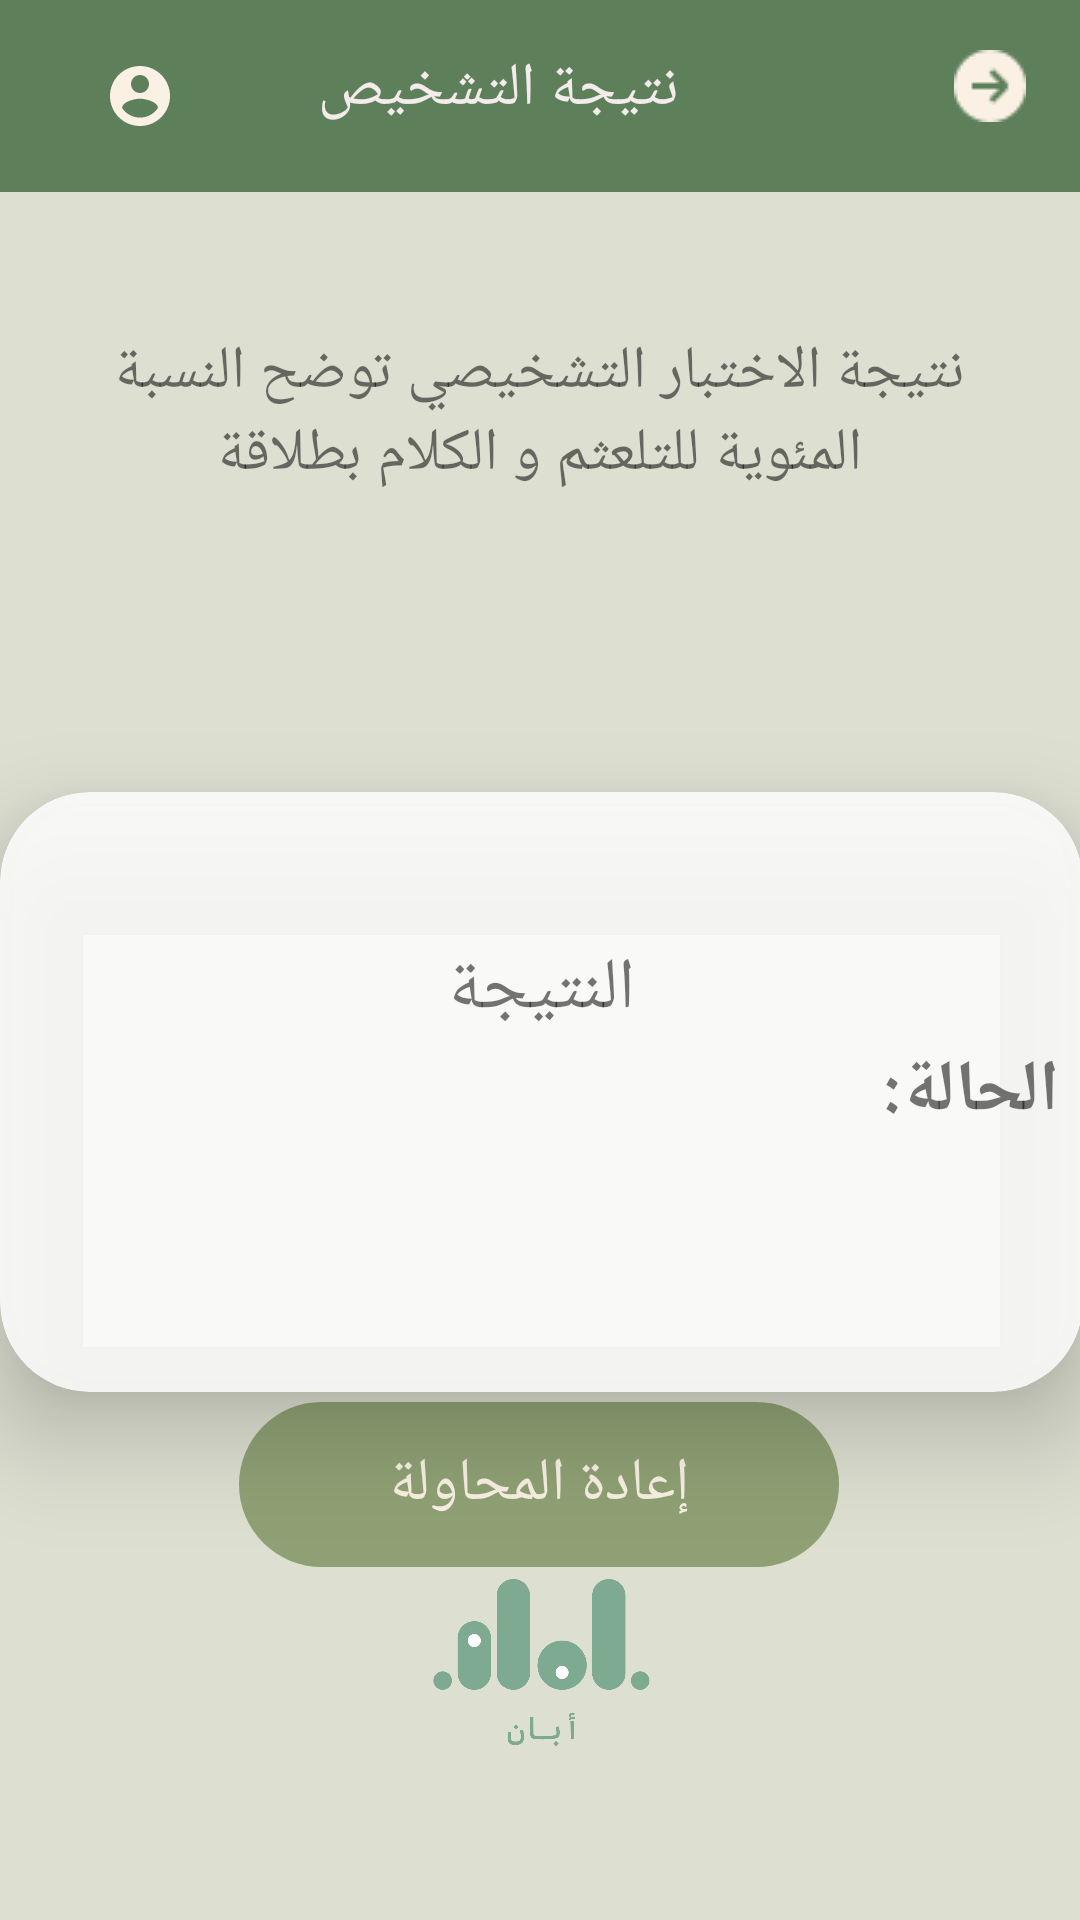

Point at icon controls on the screen. Image size 1080×1920, points as [x,y].
account: [140,96]
